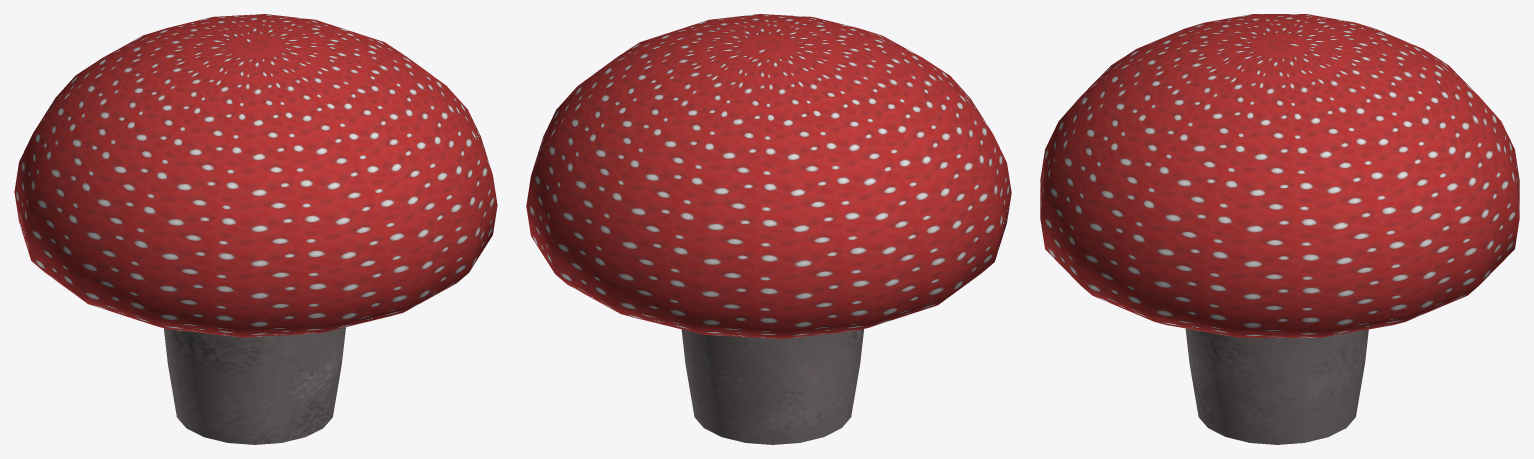
Rendered from buttonShroomTextured.FBX.
3 renders of one model, left to right at view 1: azimuth 30°, elevation 25°; view 2: azimuth 150°, elevation 25°; view 3: azimuth 270°, elevation 25°, orthographic.
Visible parts, largest first — view 1: Button; view 2: Button; view 3: Button.
Part boxes in pixels (box(x1,y1,x2,y2)): Button: box(14, 14, 497, 444); Button: box(526, 14, 1011, 444); Button: box(1040, 14, 1519, 444).
Bounding box in the file's own units: 46.03 × 39.05 × 46.03.
